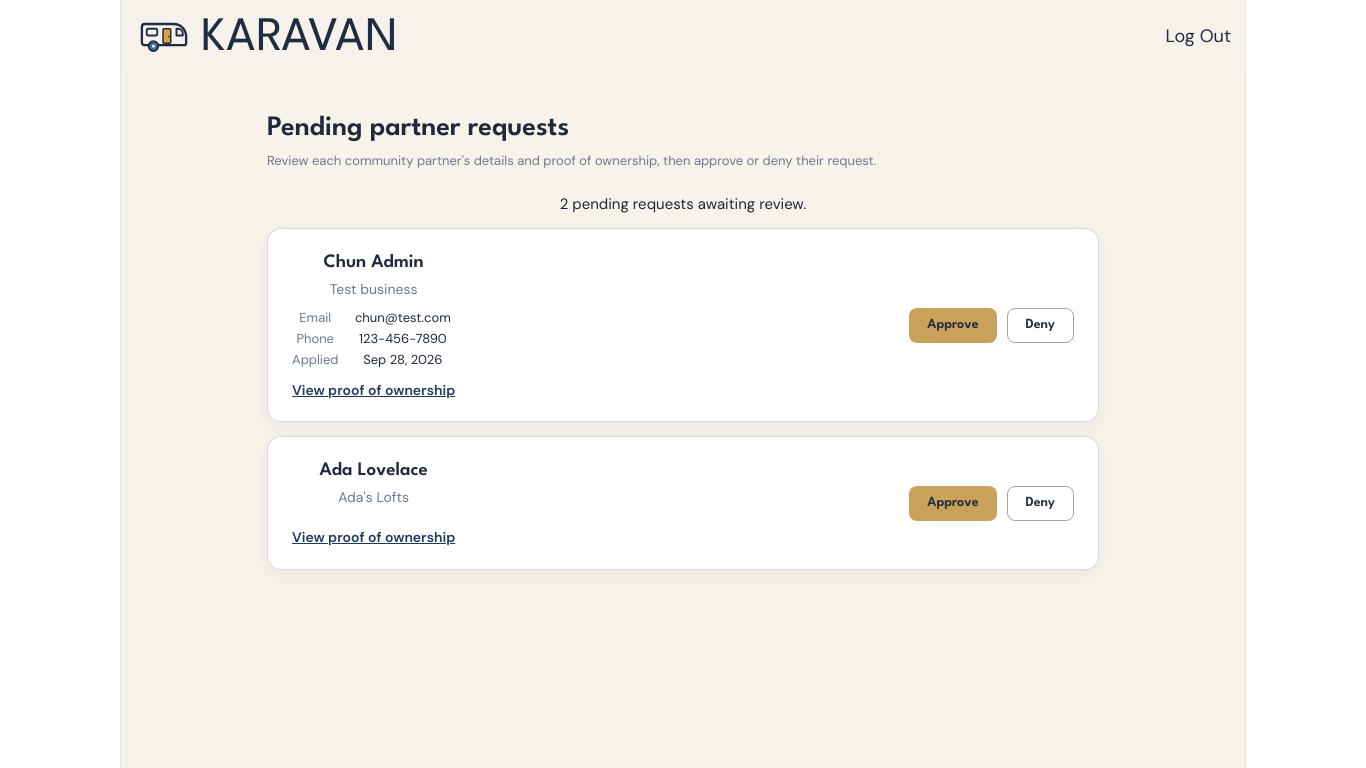
it: Moderator dashboard › approves a request, removes it from the list and confirms
This screenshot has width=1366, height=768.
Click the button "Approve" in the row of "Email" at (953, 325), box [909,308,996,343]
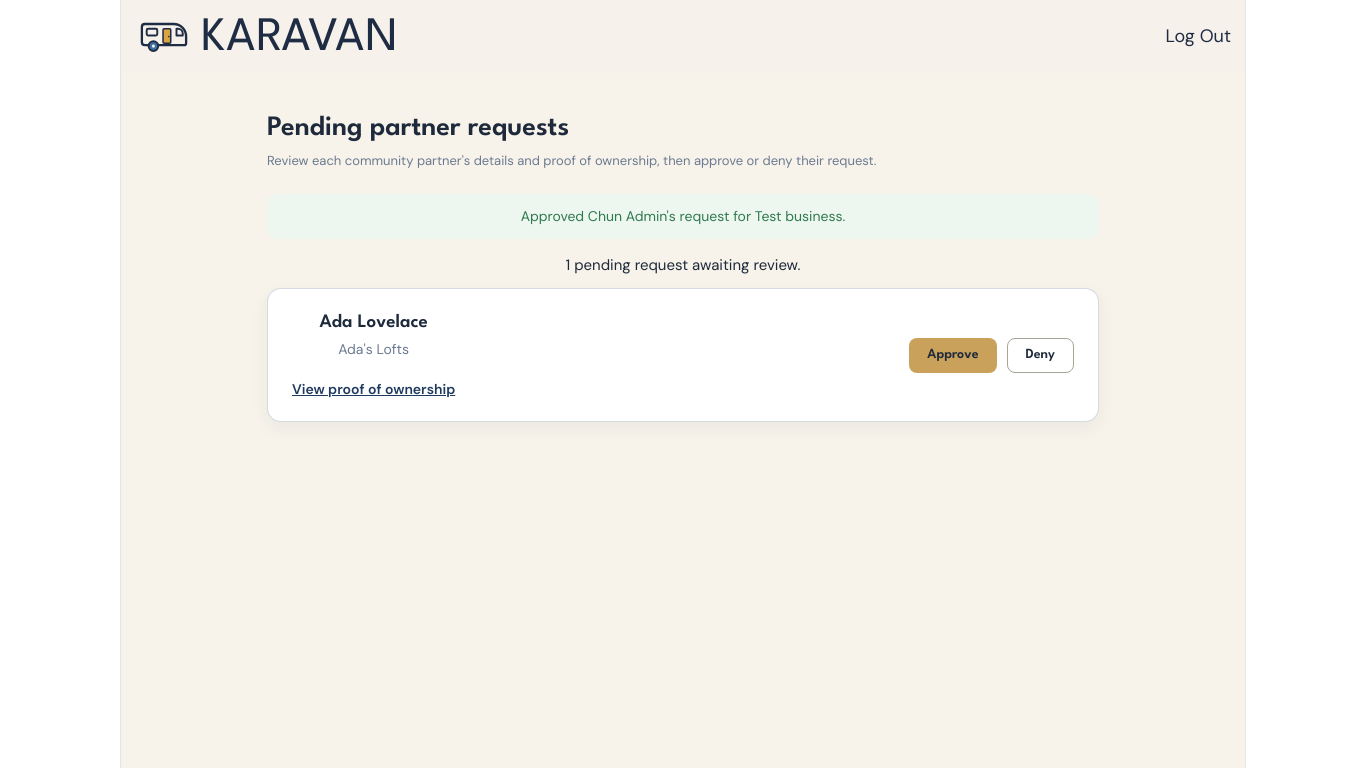
Check: the list item with aria-label "Request from Ada Lovelace" is shown, box [267,288,1099,422]
Check: the message reads "Approved Chun Admin's request for Test business.", box [521,207,845,225]
Check: the text "1 pending request awaiting review." is shown, box [566,255,801,275]
